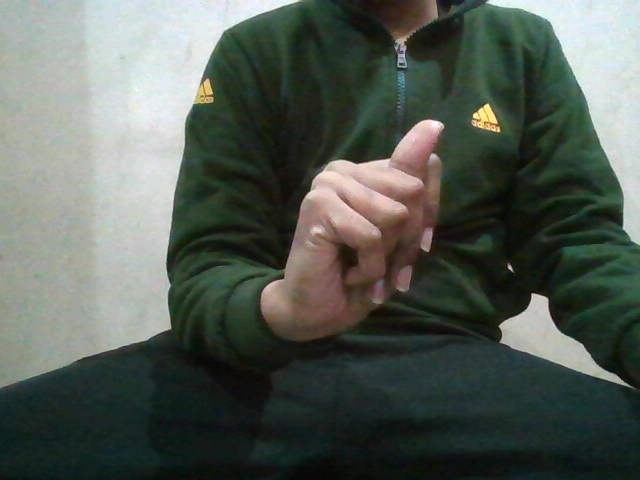T: (286, 111, 446, 333)
